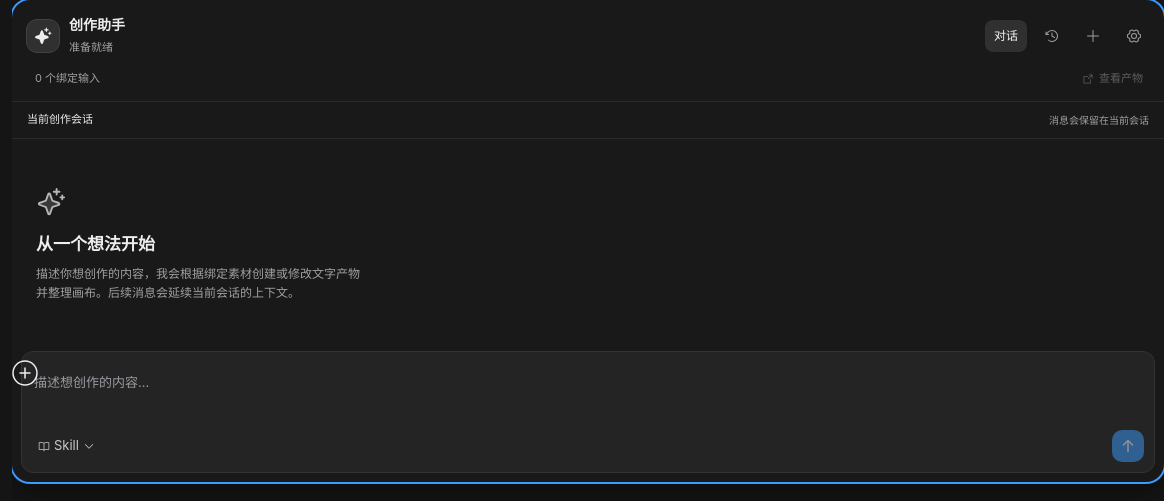
Test: AgentChatCard › blocks duplicate submissions and abandons a draft changed during preflight
In the text box named "本次任务": (588, 393) [32,362,1144,424], type "规划三个镜头，生成之前先给我检查。"
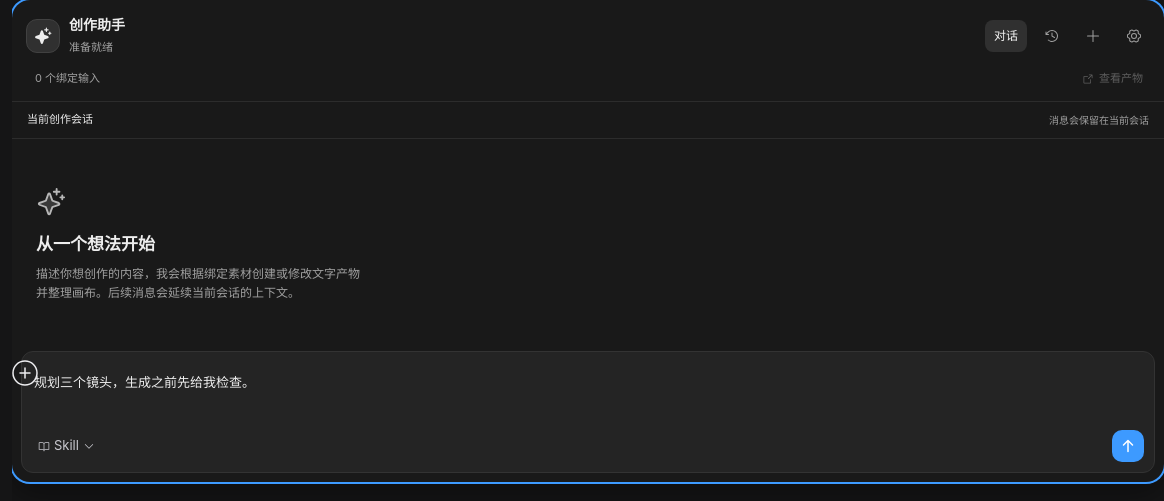
Submit the form named "发送新任务", box [21,351,1155,473]
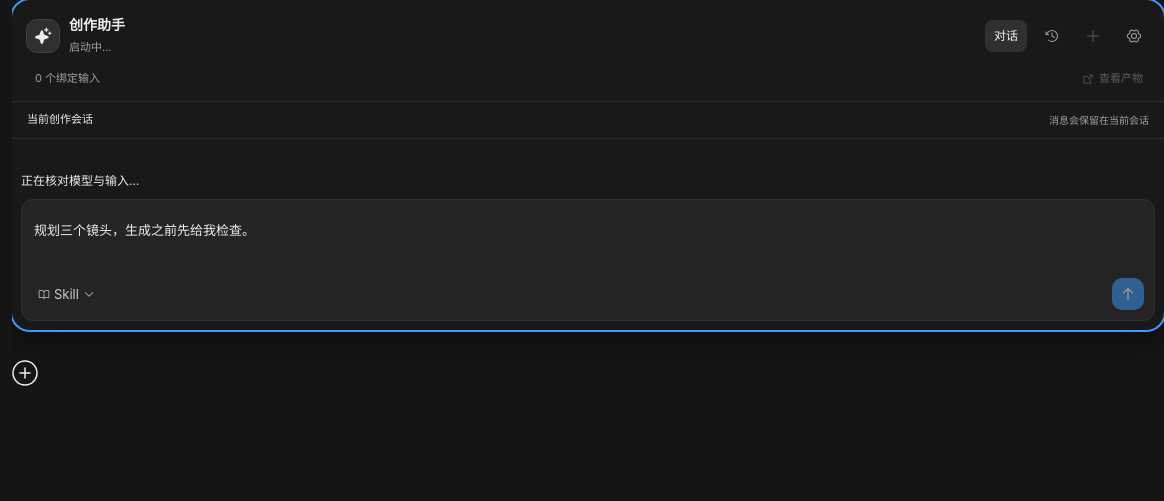
Submit the form named "发送新任务", box [21,199,1155,321]
Result: the button named "发送" is disabled at [1112,278,1144,310]
Replace the text in the text box named "本次任务" with "改为新的任务": (588, 241) [32,210,1144,272]
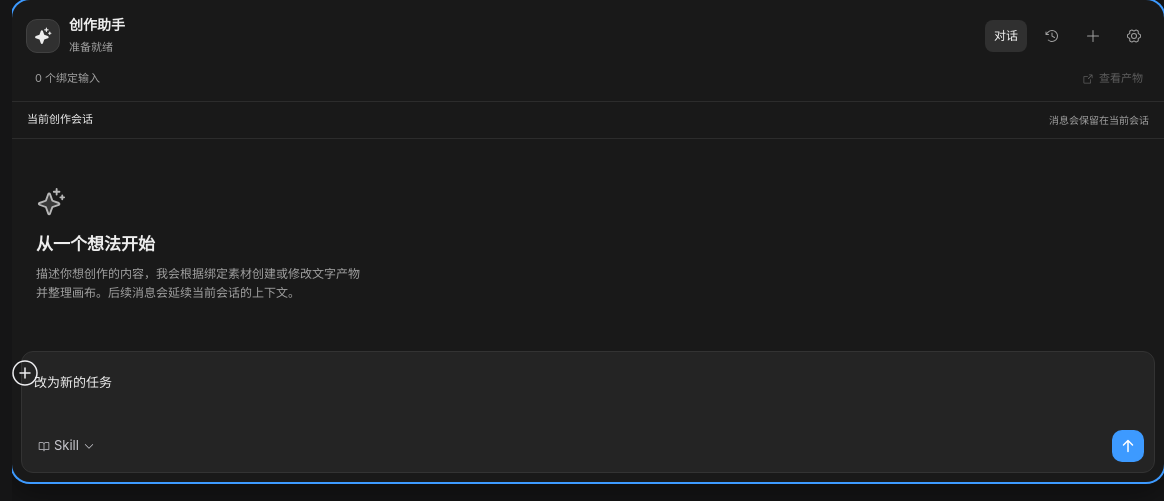
Result: the button named "发送" is enabled at [1112,430,1144,462]
